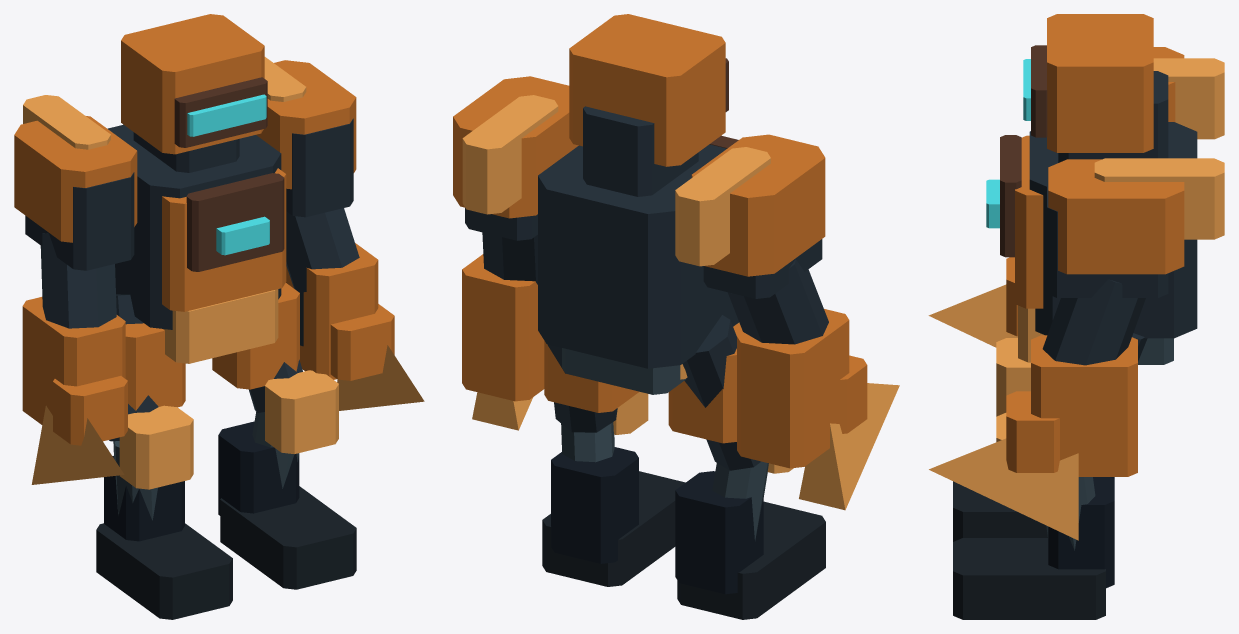
The model's file is enemy_runner_lod.obj.
3 renders of one model, left to right at view 1: azimuth 30°, elevation 25°; view 2: azimuth 150°, elevation 25°; view 3: azimuth 270°, elevation 25°, orthographic. The views are drawn at different scales.
Bounding box in the file's own units: 1.44 × 2.02 × 1.02.
